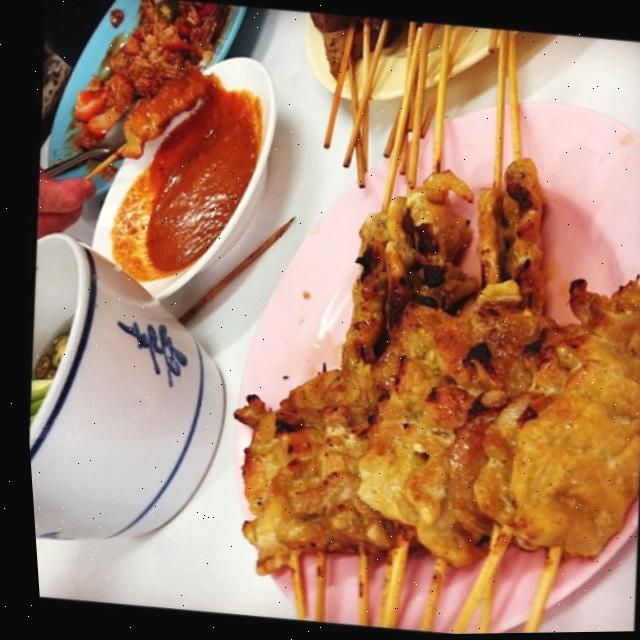牛肉菜式: (155, 0, 640, 638)
